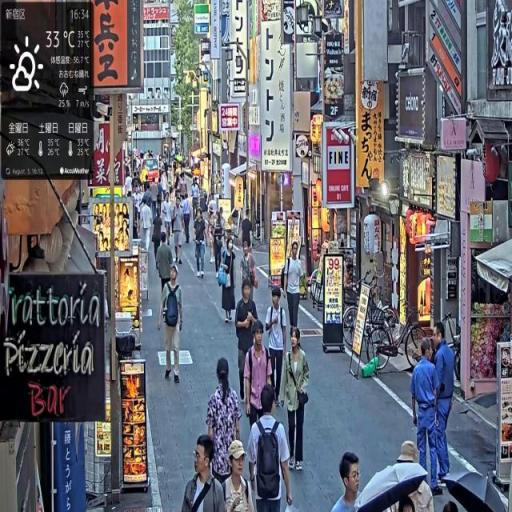person: (246, 384, 298, 512), (411, 343, 444, 496), (206, 356, 243, 487), (281, 327, 311, 473), (432, 323, 457, 486), (182, 431, 226, 512), (245, 320, 276, 434), (264, 287, 291, 408), (236, 280, 260, 415), (160, 265, 184, 384), (281, 240, 306, 349), (222, 438, 258, 512), (241, 240, 259, 304), (194, 207, 209, 280), (172, 197, 187, 266)
